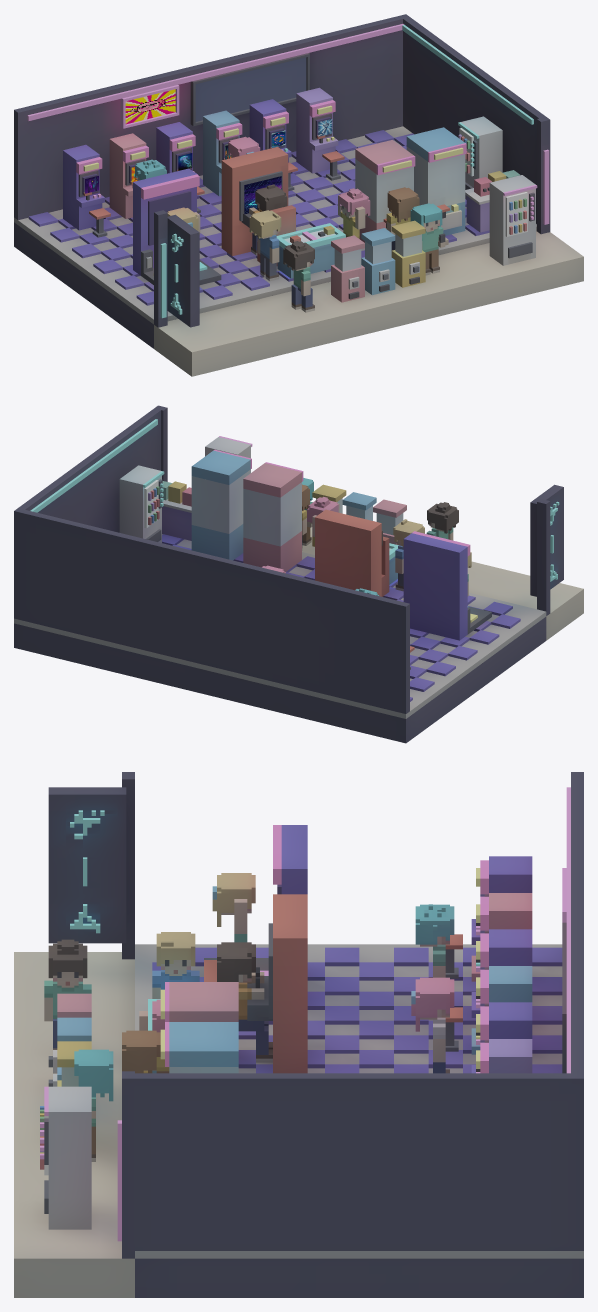
File: raum_spielhalle.glb
The picture shows the model from 3 angles, top to bottom: view 1: azimuth 30°, elevation 25°; view 2: azimuth 150°, elevation 25°; view 3: azimuth 270°, elevation 25°; orthographic projection. The views are drawn at different scales.
Parts seen in each view (by area): view 1: Spielhalle, Raum_Gehweg, Strassenleben, Spielhalle_Meterschirm, Spielhalle_Rennspiel, Spielhalle_Greifautomat_2, Spielhalle_Tanzautomat, Spielhalle_Greifautomat_1, Raum_Sockel, Spielhalle_Fahnenschild, Spielhalle_Getraenkeautomat, Spielhalle_Airhockey (+8 smaller); view 2: Spielhalle, Raum_Sockel, Spielhalle_Tanzautomat, Spielhalle_Greifautomat_1, Spielhalle_Greifautomat_2, Spielhalle_Rennspiel, Raum_Gehweg, Spielhalle_Getraenkeautomat, Spielhalle_Fahnenschild, Strassenleben, Spielhalle_Preistheke, Spielhalle_Airhockey_Spieler_1 (+1 smaller); view 3: Spielhalle, Raum_Gehweg, Raum_Sockel, Spielhalle_Fahnenschild, Strassenleben, Spielhalle_Rennspiel, Spielhalle_Greifautomat_2, Spielhalle_Greifautomat_1, Spielhalle_Fahrer, Spielhalle_Tanzautomat, Spielhalle_Airhockey_Spieler_1, Spielhalle_Taenzerin (+3 smaller).
Part boxes in pixels (<box>): Spielhalle: <box>14,14,550,327</box>; Raum_Gehweg: <box>154,231,583,376</box>; Strassenleben: <box>283,175,537,312</box>; Spielhalle_Meterschirm: <box>190,53,309,126</box>; Spielhalle_Rennspiel: <box>221,147,295,266</box>; Spielhalle_Greifautomat_2: <box>406,127,466,235</box>; Spielhalle_Tanzautomat: <box>133,168,221,284</box>; Spielhalle_Greifautomat_1: <box>355,140,415,242</box>; Raum_Sockel: <box>14,222,153,348</box>; Spielhalle_Fahnenschild: <box>167,214,199,327</box>; Spielhalle_Getraenkeautomat: <box>458,116,502,199</box>; Spielhalle_Airhockey: <box>276,223,345,278</box>; Spielhalle: <box>14,405,550,718</box>; Raum_Sockel: <box>14,617,546,743</box>; Spielhalle_Tanzautomat: <box>403,531,491,640</box>; Spielhalle_Greifautomat_1: <box>243,462,303,572</box>; Spielhalle_Greifautomat_2: <box>191,449,251,560</box>; Spielhalle_Rennspiel: <box>315,509,389,596</box>; Raum_Gehweg: <box>302,527,583,640</box>; Spielhalle_Getraenkeautomat: <box>119,465,164,542</box>; Spielhalle_Fahnenschild: <box>530,484,563,596</box>; Strassenleben: <box>205,436,458,545</box>; Spielhalle_Preistheke: <box>162,481,191,540</box>; Spielhalle_Airhockey_Spieler_1: <box>393,519,424,591</box>; Spielhalle: <box>48,772,583,1258</box>; Raum_Gehweg: <box>14,952,134,1297</box>; Raum_Sockel: <box>135,1258,583,1297</box>; Spielhalle_Fahnenschild: <box>48,787,126,943</box>; Strassenleben: <box>40,939,113,1229</box>; Spielhalle_Rennspiel: <box>204,894,307,1073</box>; Spielhalle_Greifautomat_2: <box>160,1022,238,1073</box>; Spielhalle_Greifautomat_1: <box>160,982,238,1021</box>; Spielhalle_Fahrer: <box>217,942,272,1062</box>; Spielhalle_Tanzautomat: <box>204,825,307,975</box>; Spielhalle_Airhockey_Spieler_1: <box>152,932,199,998</box>; Spielhalle_Taenzerin: <box>212,873,255,942</box>.
Size of the model in its own units: 10.5 by 3.5 by 8.25.
10 materials, 8 textured.
